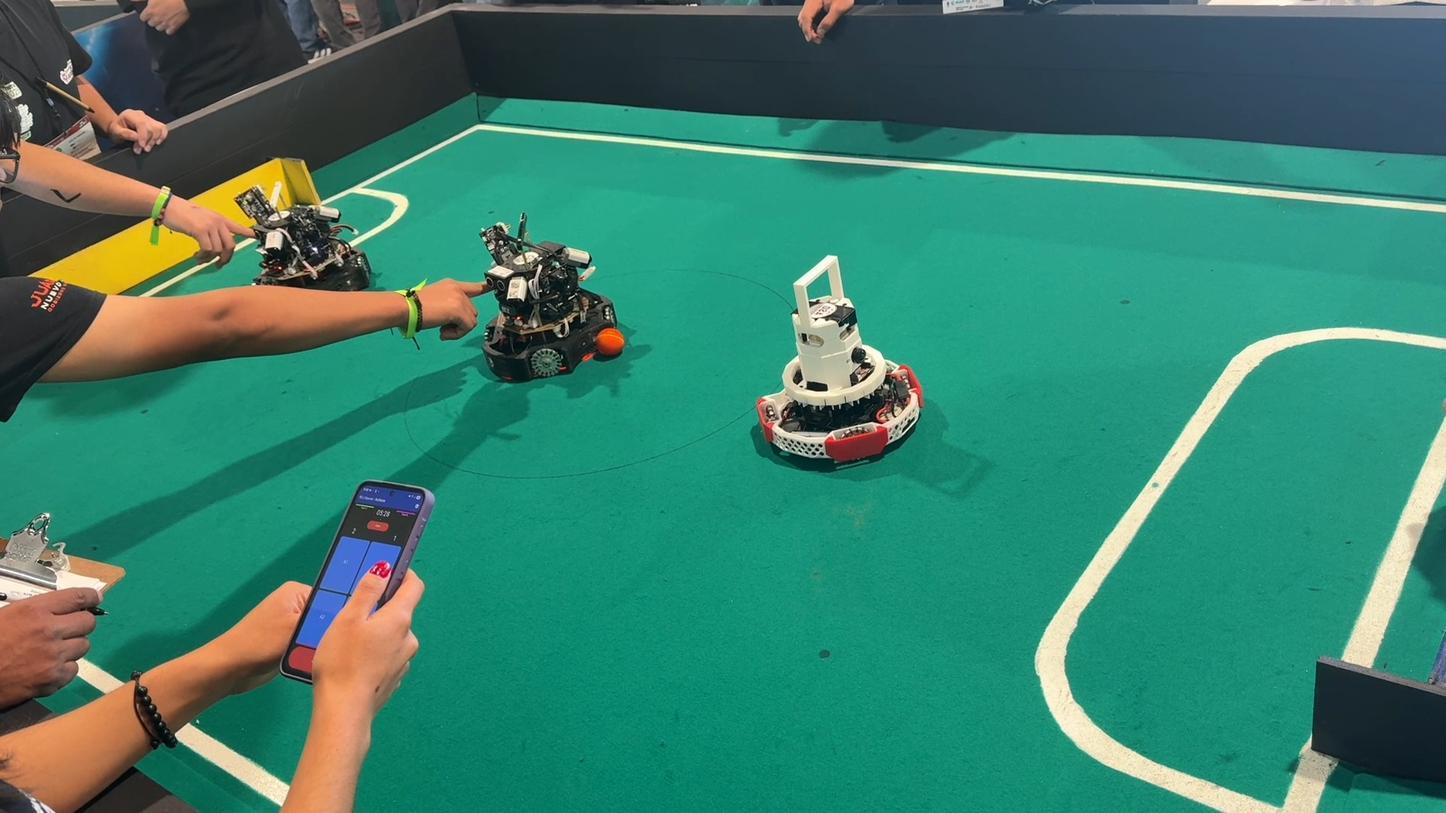Robot: (748, 245, 932, 485), (225, 162, 394, 339), (472, 214, 629, 396)
pelota: (597, 319, 627, 360)
